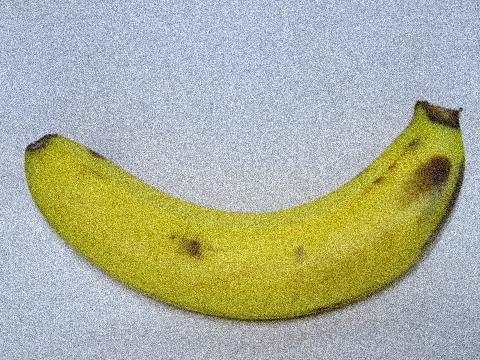freshripe: (7, 92, 479, 334)
